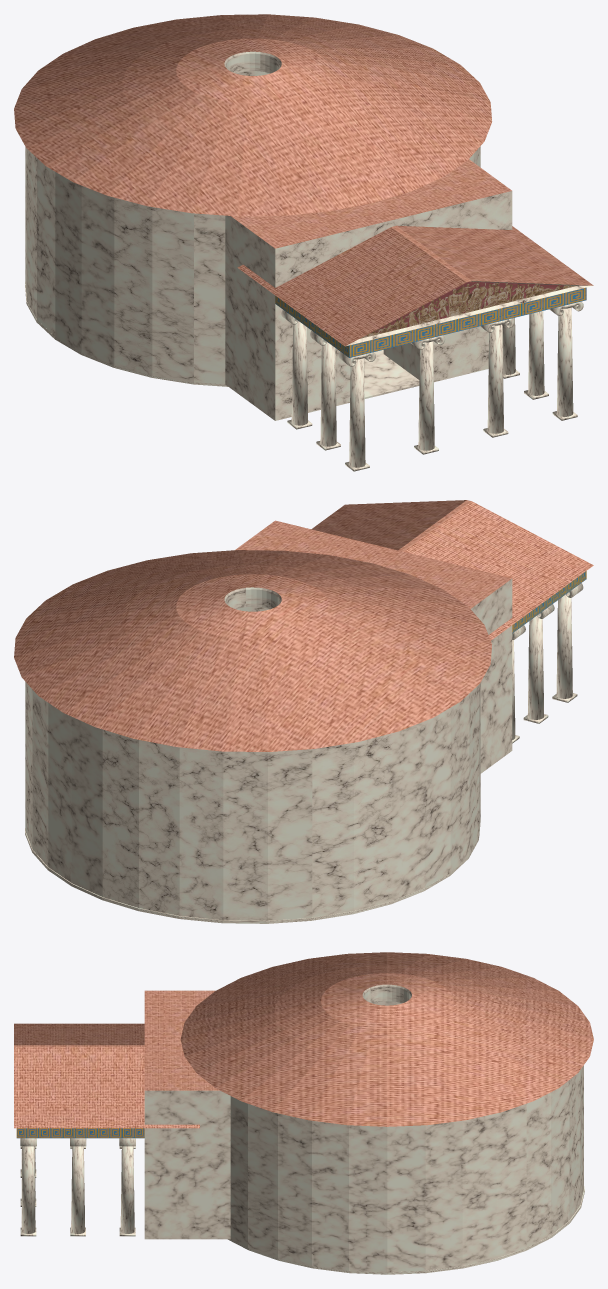
The model's file is pantheon.glb.
3 renders of one model, top to bottom at view 1: azimuth 30°, elevation 25°; view 2: azimuth 150°, elevation 25°; view 3: azimuth 270°, elevation 25°, orthographic. The views are drawn at different scales.
Visible parts, largest first — view 1: dome; view 2: dome; view 3: dome.
Boxes of the visible parts, x1=… form: dome: x1=14, y1=14, x2=593, y2=471; dome: x1=14, y1=500, x2=593, y2=923; dome: x1=14, y1=952, x2=593, y2=1274.
Size of the model in its own units: 3150 by 1652 by 4420.
Materials: 1 (1 with a texture image).
